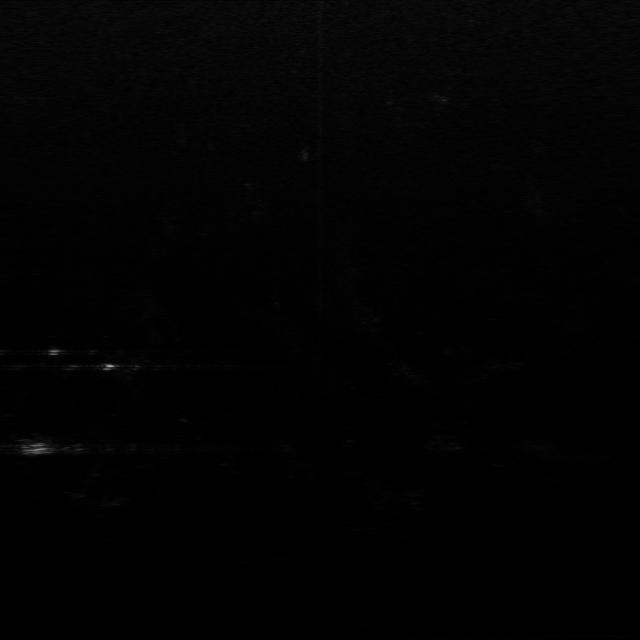rov: (14, 438, 57, 460)
